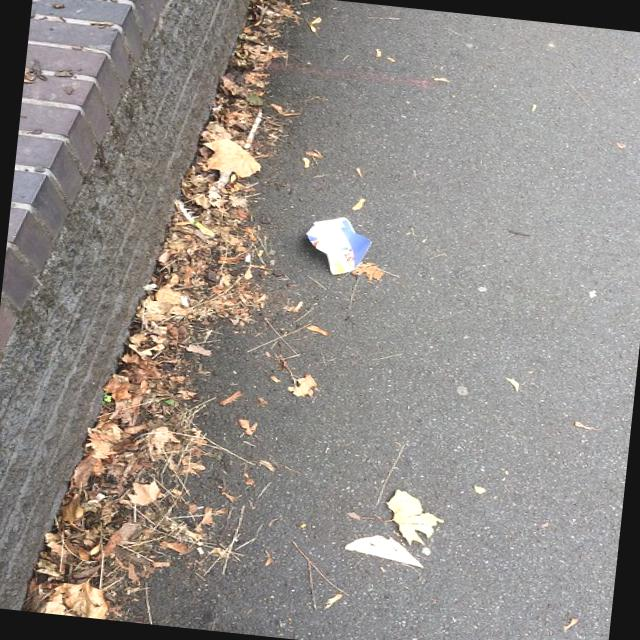Trash: (299, 213, 376, 281)
